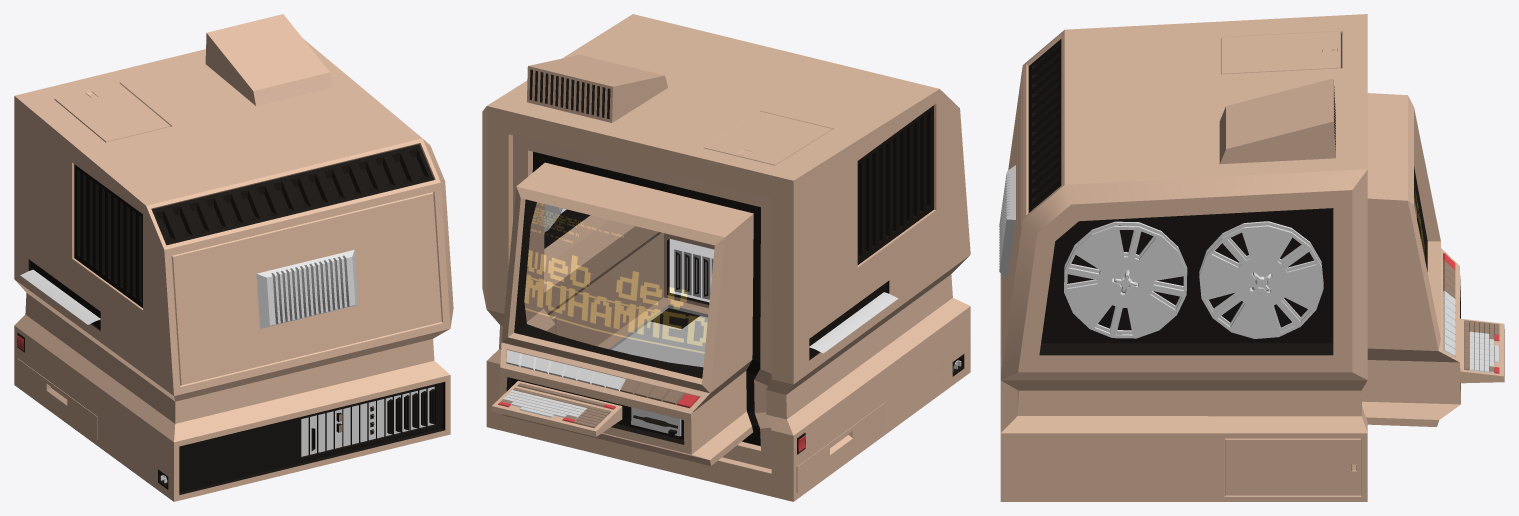
The model's file is computer.glb.
The picture shows the model from 3 angles, left to right: view 1: azimuth 30°, elevation 25°; view 2: azimuth 150°, elevation 25°; view 3: azimuth 270°, elevation 25°; orthographic projection. The views are drawn at different scales.
Parts seen in each view (by area): view 1: Cube; view 2: Cube; view 3: Cube.
Part boxes in pixels (<box>): Cube: <box>14,14,453,501</box>; Cube: <box>482,14,970,501</box>; Cube: <box>999,14,1504,501</box>.
Bounding box in the file's own units: 2.15 × 2.25 × 2.75.
8 materials, 1 textured.
